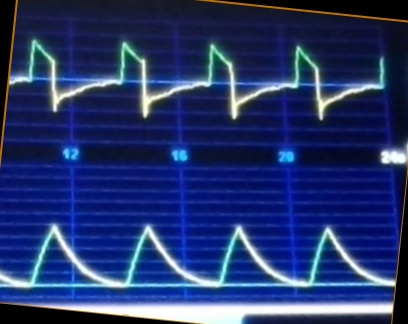Normal Flow: (11, 33, 384, 123)
Normal Volume: (1, 212, 394, 294)
